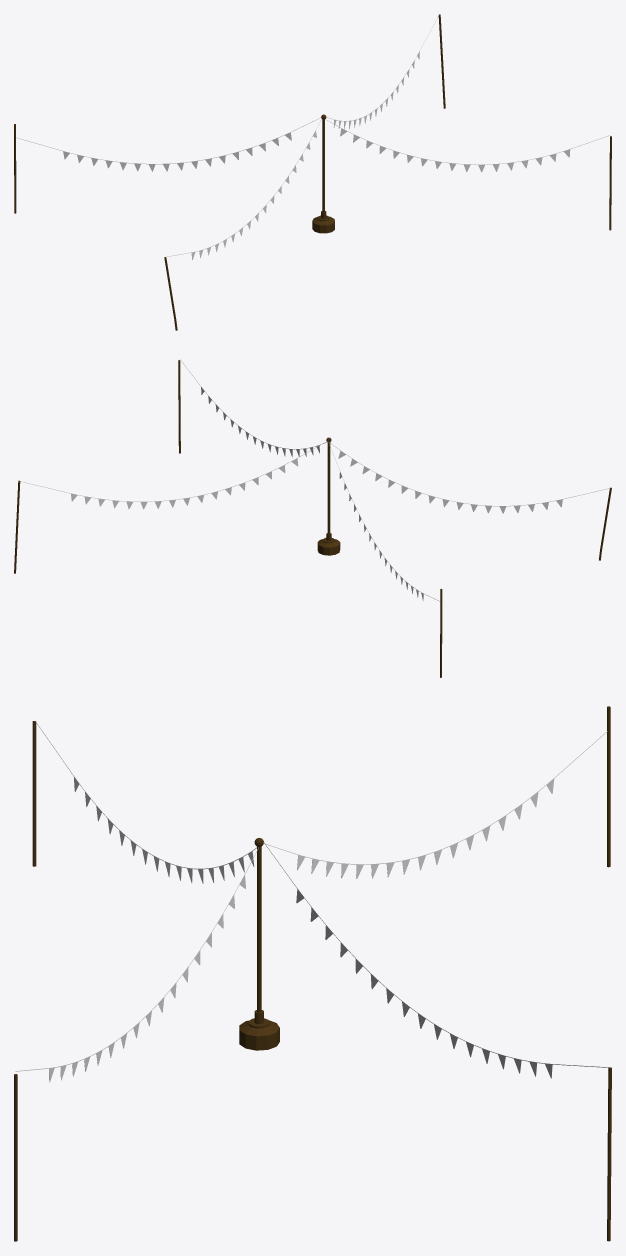
The model's file is qweqeqwe.fbx.
3 views of the same model, one above another, from view 1: azimuth 30°, elevation 25°; view 2: azimuth 150°, elevation 25°; view 3: azimuth 270°, elevation 25° (orthographic). The views are drawn at different scales.
Visible parts, largest first — view 1: Plane.007, Plane.005, Cylinder, Plane.006; view 2: Plane, Plane.006, Cylinder, Plane.005; view 3: Cylinder, Plane, Plane.007, Plane.005, Plane.006, Cylinder.003, Cylinder.001.
Boxes of the visible parts, left/top/right/bottom form: Plane.007: left=16, top=117, right=321, bottom=171; Plane.005: left=325, top=119, right=609, bottom=172; Cylinder: left=312, top=114, right=334, bottom=233; Plane.006: left=166, top=119, right=321, bottom=259; Plane: left=19, top=441, right=327, bottom=509; Plane.006: left=329, top=442, right=610, bottom=513; Cylinder: left=317, top=437, right=340, bottom=555; Plane.005: left=180, top=359, right=326, bottom=457; Cylinder: left=239, top=838, right=279, bottom=1050; Plane: left=263, top=842, right=610, bottom=1078; Plane.007: left=264, top=731, right=607, bottom=878; Plane.005: left=15, top=847, right=258, bottom=1082; Plane.006: left=35, top=721, right=256, bottom=883; Cylinder.003: left=607, top=1067, right=611, bottom=1241; Cylinder.001: left=32, top=721, right=36, bottom=866.
Bounding box in the file's own units: 8580 × 2199 × 5621.
